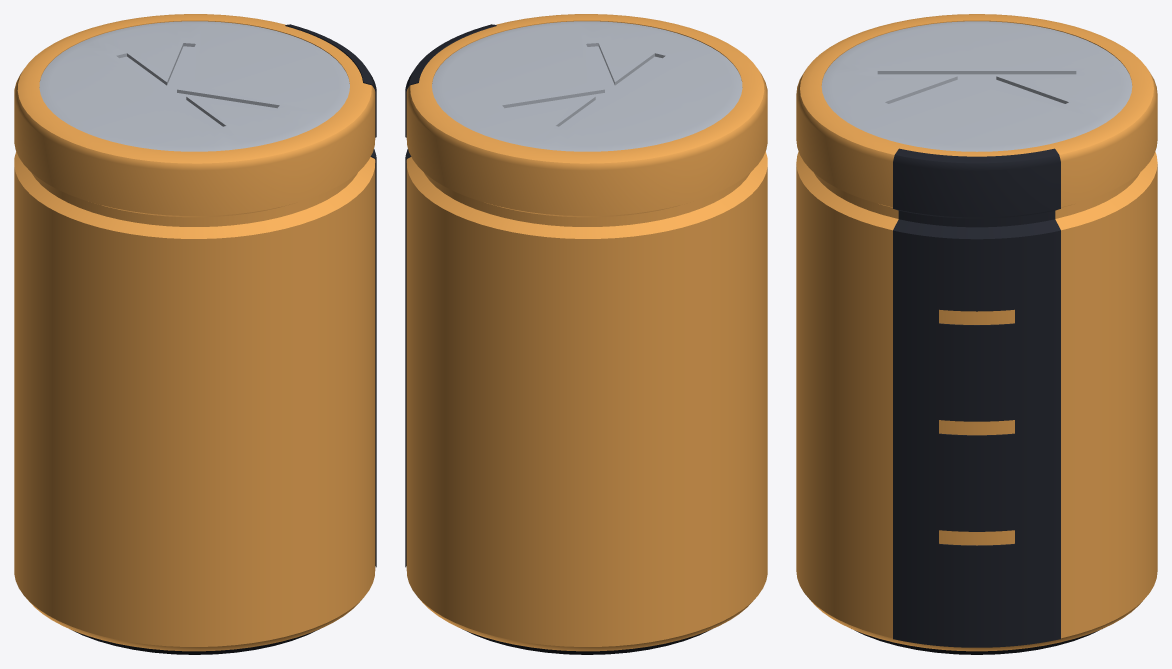
The model's file is CapacitorBig.glb.
The picture shows the model from 3 angles, left to right: view 1: azimuth 30°, elevation 25°; view 2: azimuth 150°, elevation 25°; view 3: azimuth 270°, elevation 25°; orthographic projection.
Parts seen in each view (by area): view 1: Sleeve__SmoothPlastic__F6AD55, Top__Metal__B8BEC8, Stripe__SmoothPlastic__22252E, Seal__Plastic__16181E; view 2: Sleeve__SmoothPlastic__F6AD55, Top__Metal__B8BEC8, Stripe__SmoothPlastic__22252E, Seal__Plastic__16181E; view 3: Sleeve__SmoothPlastic__F6AD55, Stripe__SmoothPlastic__22252E, Top__Metal__B8BEC8, Seal__Plastic__16181E.
Part boxes in pixels (x1,y1,x2,y2): Sleeve__SmoothPlastic__F6AD55: (14,14,375,651); Top__Metal__B8BEC8: (39,21,349,151); Stripe__SmoothPlastic__22252E: (285,24,376,567); Seal__Plastic__16181E: (72,629,319,654); Sleeve__SmoothPlastic__F6AD55: (406,14,767,651); Top__Metal__B8BEC8: (432,21,742,151); Stripe__SmoothPlastic__22252E: (405,24,496,567); Seal__Plastic__16181E: (462,629,709,654); Sleeve__SmoothPlastic__F6AD55: (796,14,1157,651); Stripe__SmoothPlastic__22252E: (893,148,1060,647); Top__Metal__B8BEC8: (821,21,1132,151); Seal__Plastic__16181E: (854,630,1099,654).
Bounding box in the file's own units: 10.05 × 16.03 × 10.
